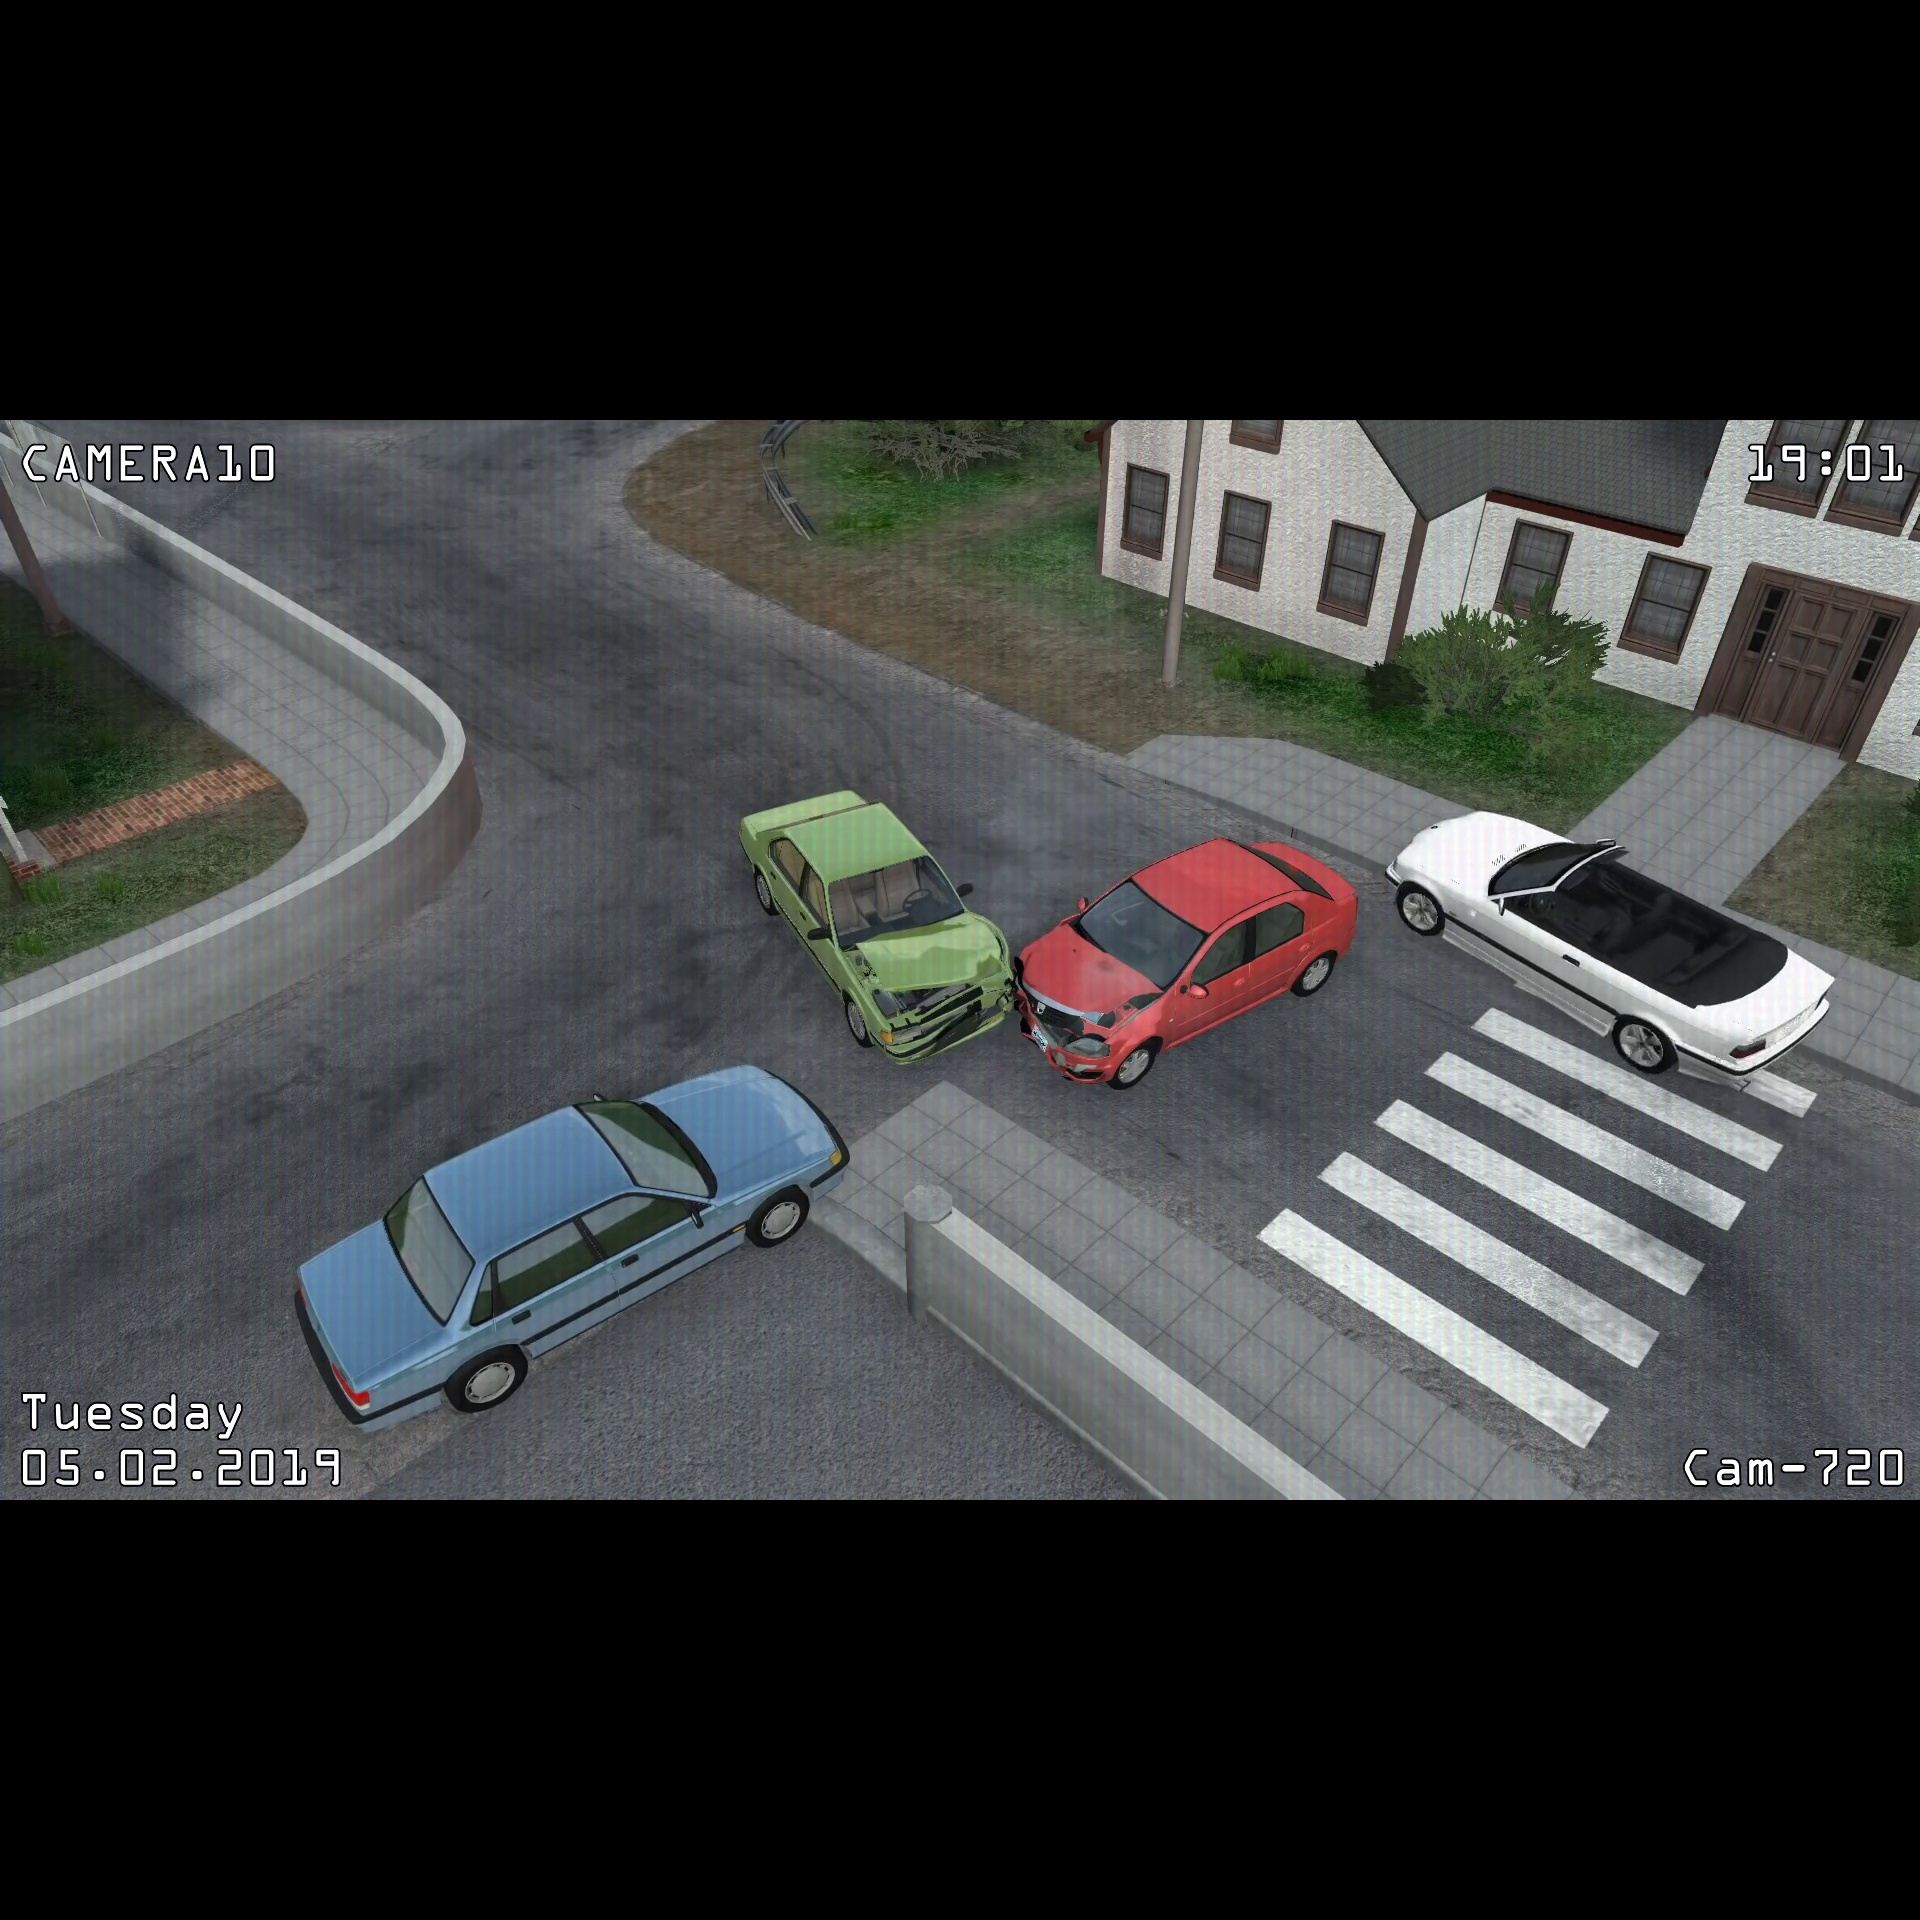vehicle: (285, 1051, 865, 1436), (1377, 798, 1843, 1092), (1011, 825, 1366, 1097), (733, 775, 1009, 1064)
